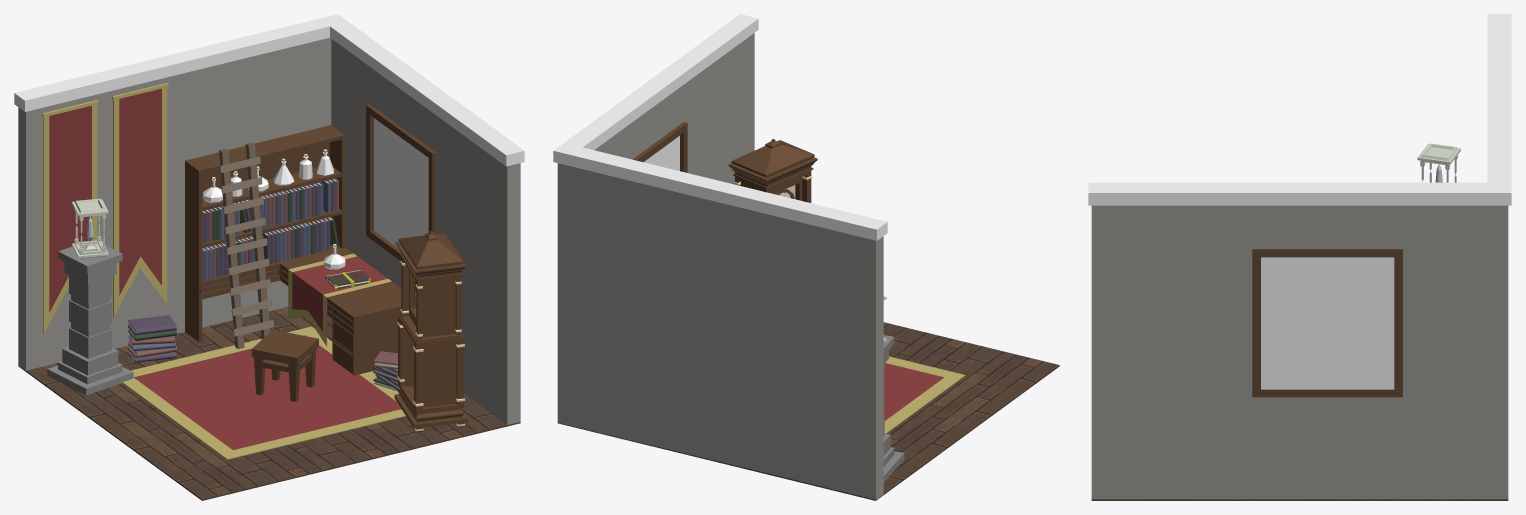
Rendered from room.fbx.
3 views of the same model, side by side, from view 1: azimuth 30°, elevation 25°; view 2: azimuth 150°, elevation 25°; view 3: azimuth 270°, elevation 25° (orthographic). The views are drawn at different scales.
Visible parts, largest first — view 1: Wall, Floor, Carpet, Desk, Clock_base, Wall_banner_2, Wall_banner_1, Pillar, Ladder, Tapis, Chair, Basic_books1 (+6 smaller); view 2: Wall, Floor, Clock_base, Carpet, Pillar; view 3: Wall, Crystal_holder, Floor.
Boxes of the visible parts, left/top/right/bottom form: Wall: left=14, top=14, right=524, bottom=424; Floor: left=18, top=307, right=520, bottom=500; Carpet: left=122, top=326, right=405, bottom=459; Desk: left=185, top=125, right=401, bottom=375; Clock_base: left=394, top=231, right=467, bottom=432; Wall_banner_2: left=112, top=83, right=168, bottom=316; Wall_banner_1: left=42, top=100, right=98, bottom=333; Pillar: left=47, top=239, right=133, bottom=395; Ladder: left=219, top=142, right=274, bottom=348; Tapis: left=288, top=253, right=391, bottom=346; Chair: left=251, top=329, right=318, bottom=401; Basic_books1: left=262, top=218, right=330, bottom=264; Wall: left=553, top=14, right=887, bottom=499; Floor: left=558, top=322, right=1059, bottom=500; Clock_base: left=728, top=139, right=817, bottom=202; Carpet: left=883, top=356, right=965, bottom=433; Pillar: left=883, top=335, right=904, bottom=482; Wall: left=1088, top=14, right=1511, bottom=499; Crystal_holder: left=1417, top=143, right=1460, bottom=182; Floor: left=1091, top=499, right=1508, bottom=500.
Size of the model in its own units: 24.4 by 19.67 by 24.4.
Materials: 33 (2 with a texture image).
